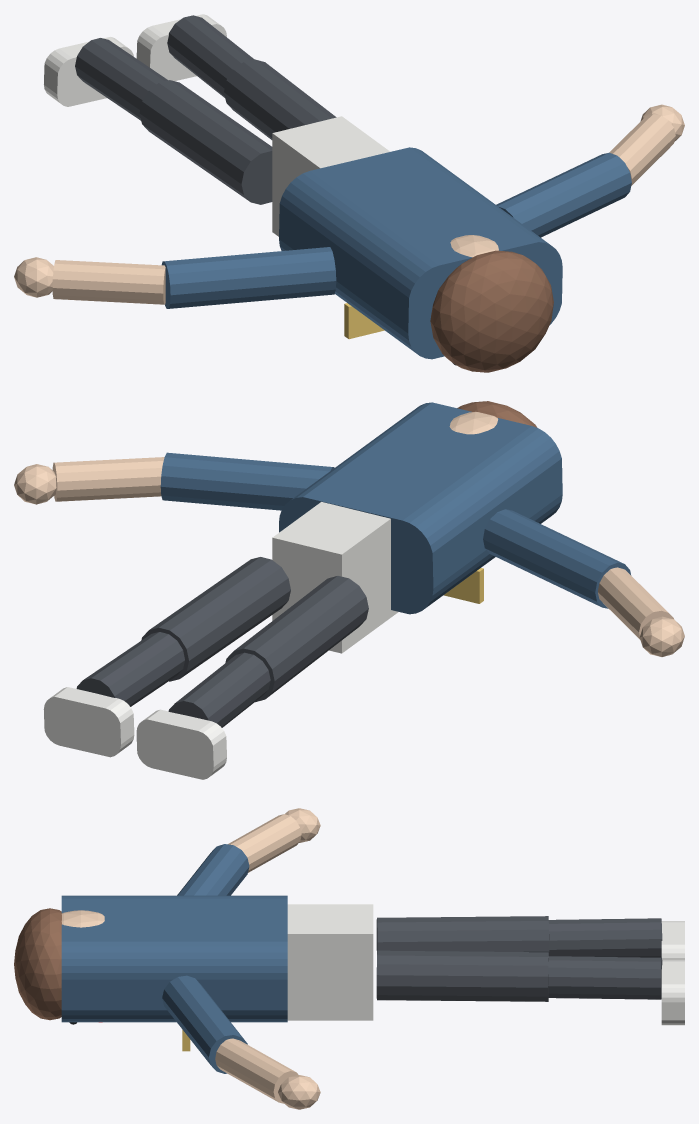
The model's file is CHAR_RECEPTIONIST_001.glb.
The picture shows the model from 3 angles, top to bottom: view 1: azimuth 30°, elevation 25°; view 2: azimuth 150°, elevation 25°; view 3: azimuth 270°, elevation 25°; orthographic projection. The views are drawn at different scales.
Visible parts, largest first — view 1: torso_jacket_003, hair_cap_001, thigh_012, upper_arm_006, upper_arm_009, shirt_panel_004, thigh_015, forearm_007, shin_013, shin_016, forearm_010, shoe_014 (+5 smaller); view 2: torso_jacket_003, shirt_panel_004, thigh_015, thigh_012, upper_arm_009, upper_arm_006, shoe_014, shoe_017, shin_016, forearm_010, shin_013, forearm_007 (+5 smaller); view 3: torso_jacket_003, shirt_panel_004, thigh_015, thigh_012, shin_016, hair_cap_001, shin_013, upper_arm_009, forearm_010, upper_arm_006, forearm_007, shoe_017 (+4 smaller).
Part boxes in pixels (x1,y1,x2,y2): torso_jacket_003: (279,147,562,359); hair_cap_001: (430,250,553,372); thigh_012: (139,80,272,204); upper_arm_006: (161,247,336,308); upper_arm_009: (496,152,631,237); shirt_panel_004: (272,116,390,236); thigh_015: (224,59,336,139); forearm_007: (52,260,165,304); shin_013: (75,38,167,120); shin_016: (167,15,254,97); forearm_010: (609,114,675,185); shoe_014: (44,37,133,106); torso_jacket_003: (279,402,562,614); shirt_panel_004: (272,502,398,653); thigh_015: (141,557,290,681); thigh_012: (225,576,368,702); upper_arm_009: (160,452,334,510); upper_arm_006: (483,509,631,608); shoe_014: (136,709,226,779); shoe_017: (43,687,134,757); shin_016: (76,632,184,706); forearm_010: (52,457,164,501); shin_013: (168,652,270,727); forearm_007: (598,567,673,639); torso_jacket_003: (61,895,287,1022); shirt_panel_004: (287,904,373,1020); thigh_015: (376,950,548,1001); thigh_012: (376,916,549,955); shin_016: (548,956,662,999); hair_cap_001: (14,908,61,1020); shin_013: (548,918,662,957); upper_arm_009: (162,975,247,1073); forearm_010: (215,1038,298,1103); upper_arm_006: (177,844,249,895); forearm_007: (228,814,301,872); shoe_017: (661,960,684,1025).
Bounding box in the file's own units: 1.72 × 0.3078 × 1.72.
